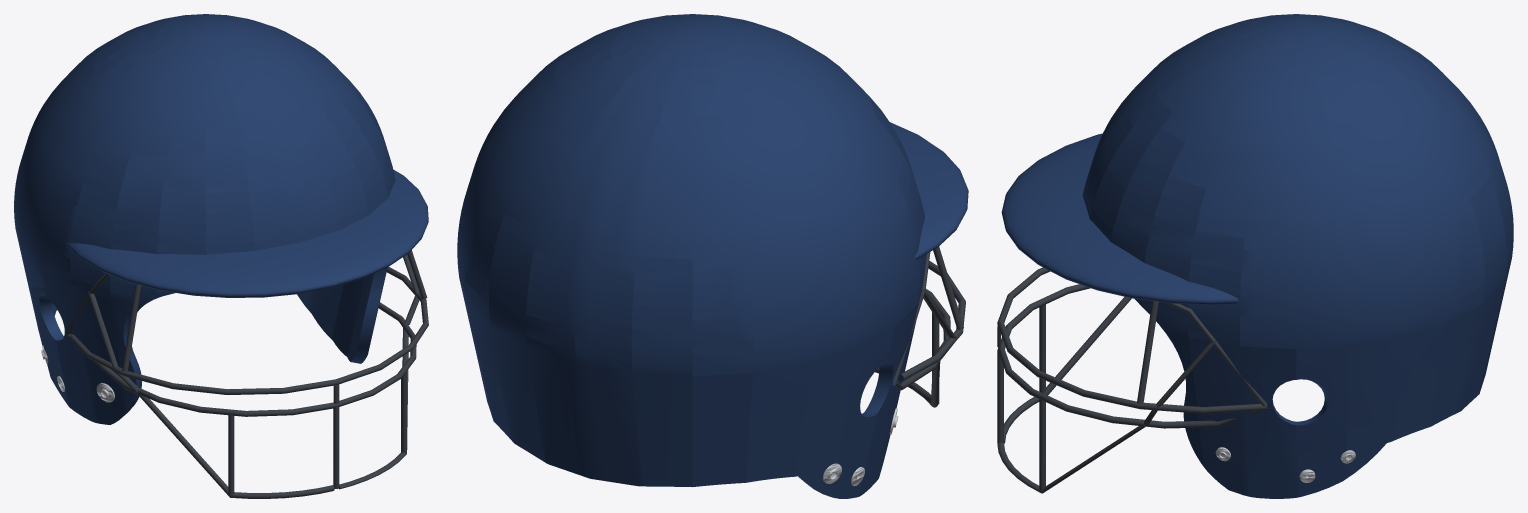
File: helmet.glb
The picture shows the model from 3 angles, left to right: view 1: azimuth 30°, elevation 25°; view 2: azimuth 150°, elevation 25°; view 3: azimuth 270°, elevation 25°; orthographic projection. The views are drawn at different scales.
Visible parts, largest first — view 1: shell, grille; view 2: shell, grille, screws; view 3: shell, grille.
Part boxes in pixels (bbox=[...]): shell: bbox=[14, 14, 428, 424]; grille: bbox=[65, 250, 428, 498]; shell: bbox=[457, 14, 968, 498]; grille: bbox=[875, 246, 965, 407]; screws: bbox=[823, 408, 898, 486]; shell: bbox=[1001, 14, 1513, 498]; grille: bbox=[997, 267, 1266, 493].
Size of the model in its own units: 1 by 1.05 by 1.19.
